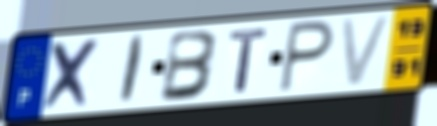B: (157, 29, 221, 105)
I: (116, 33, 148, 107)
P: (276, 18, 337, 95)
T: (227, 26, 272, 95)
V: (338, 13, 396, 90)
X: (39, 36, 105, 113)
